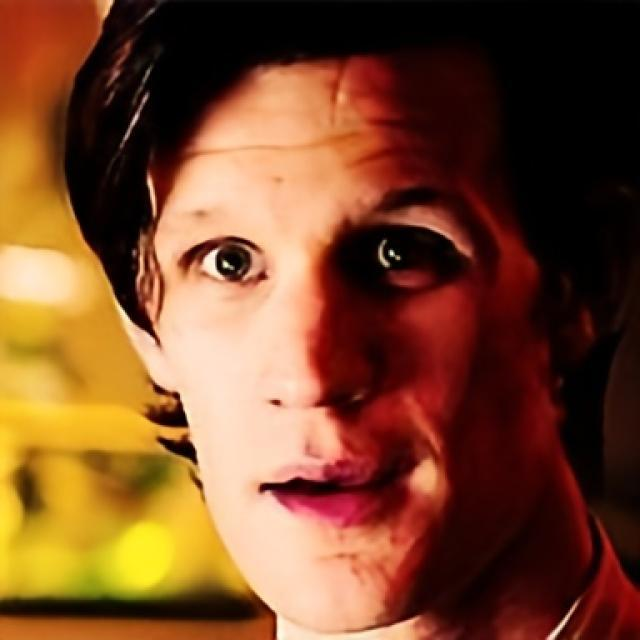surprise: (147, 50, 566, 635)
